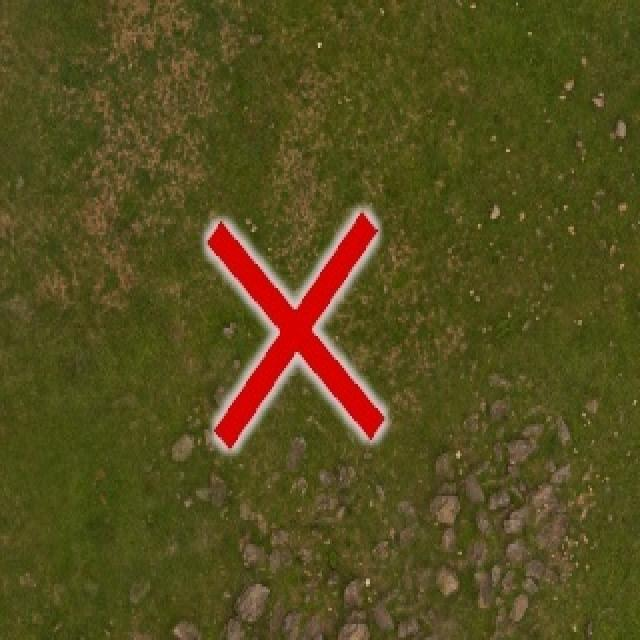x_marker: (207, 212, 383, 447)
